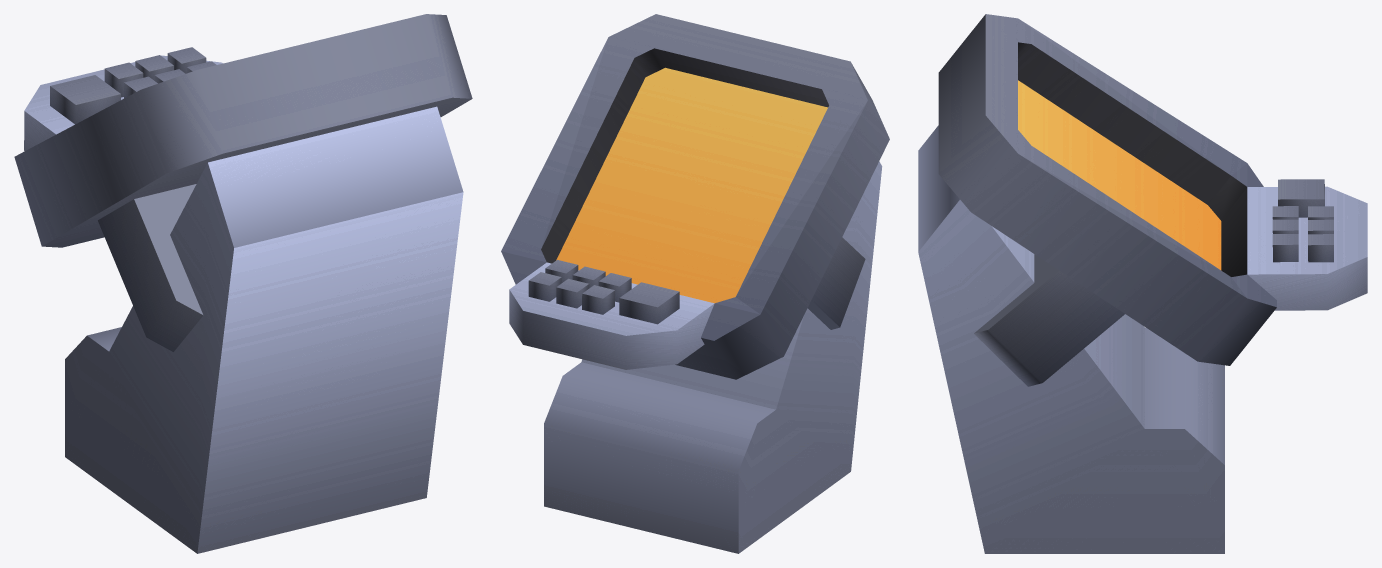
The model's file is computer_console.glb.
3 renders of one model, left to right at view 1: azimuth 30°, elevation 25°; view 2: azimuth 150°, elevation 25°; view 3: azimuth 270°, elevation 25°, orthographic. The views are drawn at different scales.
Visible parts, largest first — view 1: computer; view 2: computer; view 3: computer.
Boxes of the visible parts, box(x1,y1,x2,y2) form: computer: box(14, 14, 472, 553); computer: box(501, 14, 889, 553); computer: box(918, 14, 1367, 553).
Size of the model in its own units: 1.27 by 1.93 by 1.79.
Materials: 1 (1 with a texture image).
